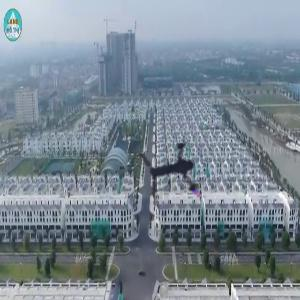drone: (137, 124, 224, 211)
